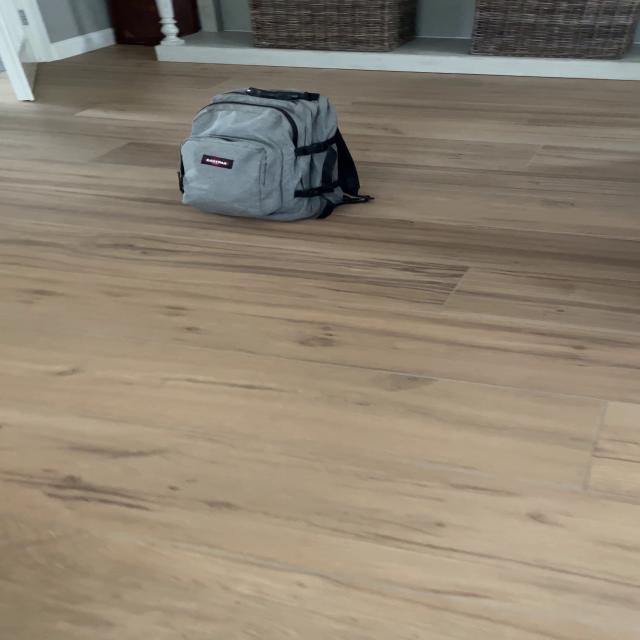backpack: (166, 81, 371, 227)
